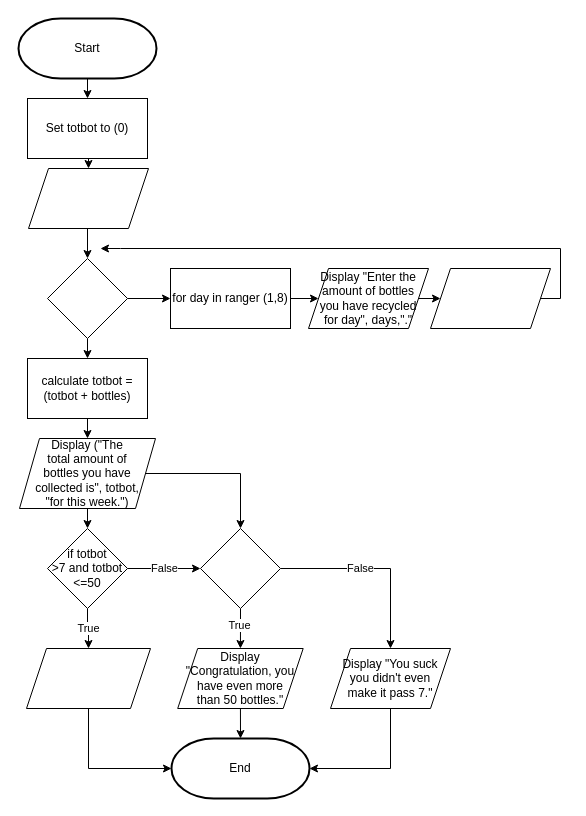
This 586x816 diagram has some shape labels left out. Each missing label, with the box of its shape:
days <=7: (46, 258, 128, 338)
Display "Congratulation, you have more than 7 bottles.": (26, 648, 150, 708)
Display "Welcome to Bottles Counter.": (28, 168, 148, 228)
if bottles >50: (200, 528, 280, 608)
Input Bottles = int (input()): (430, 268, 550, 328)
